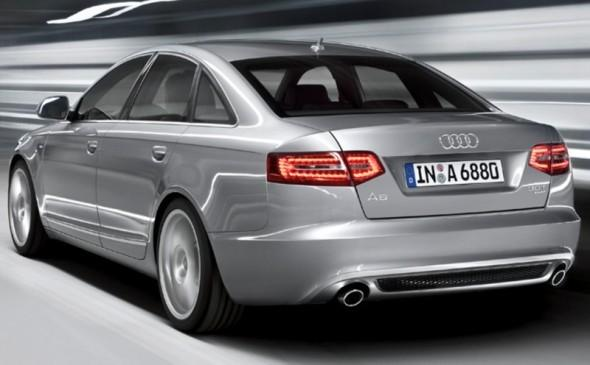Sedan: (6, 36, 581, 334)
